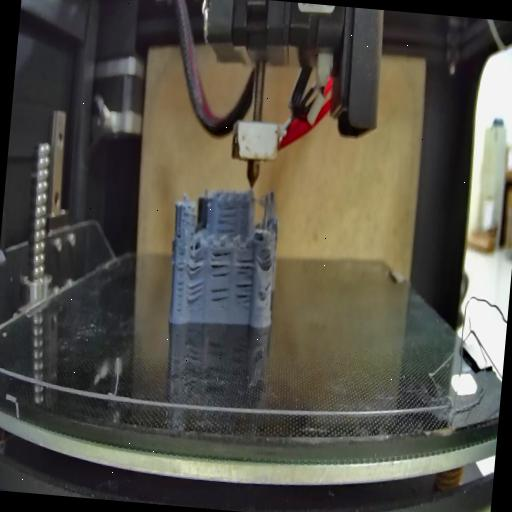cracks: (234, 258, 255, 306), (173, 250, 188, 314), (206, 281, 232, 312), (207, 248, 233, 278), (218, 200, 238, 234), (187, 248, 206, 278), (187, 282, 205, 306), (258, 250, 276, 271), (176, 226, 186, 240), (262, 280, 272, 293)
